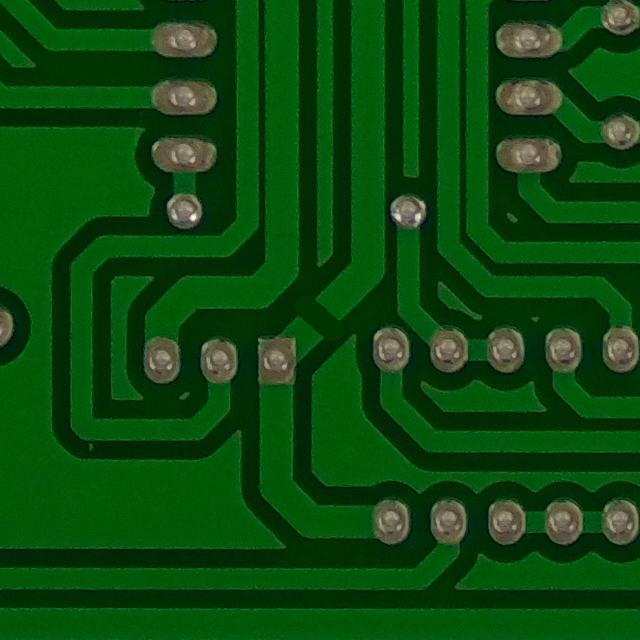open_circuit: (289, 292, 351, 348)
